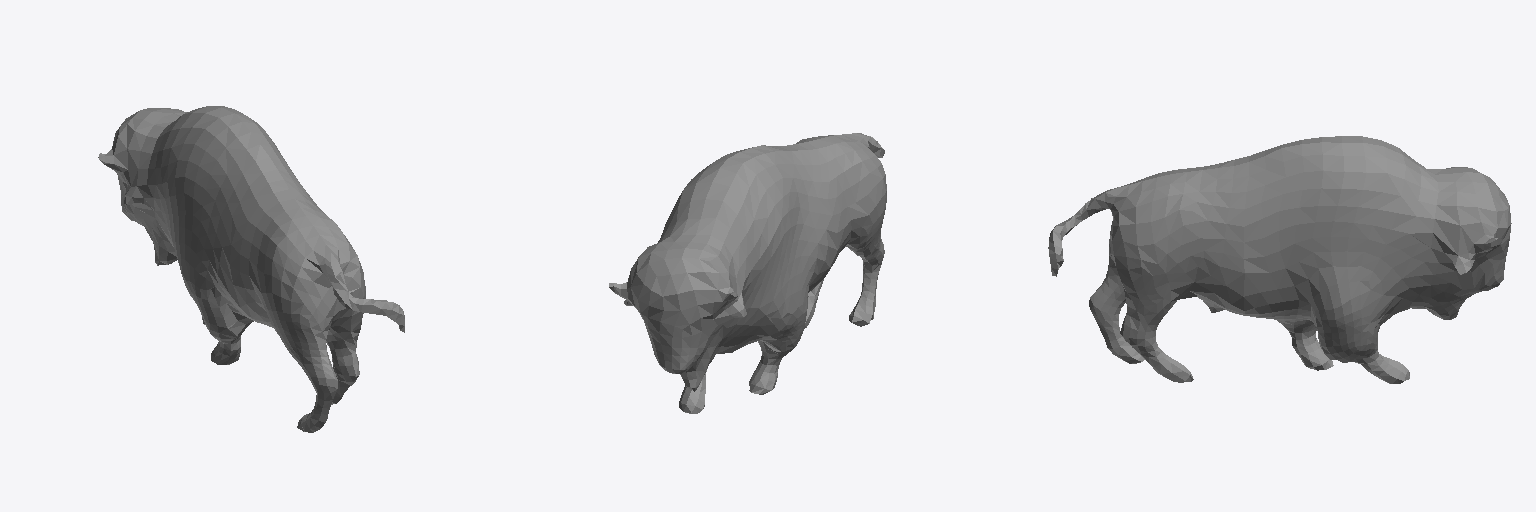
Rendered from bison.obj.
3 renders of one model, left to right at view 1: azimuth 30°, elevation 25°; view 2: azimuth 150°, elevation 25°; view 3: azimuth 270°, elevation 25°, orthographic.
Parts seen in each view (by area): view 1: objVolume11; view 2: objVolume11; view 3: objVolume11.
Part boxes in pixels (left/top/right/bottom): objVolume11: left=98, top=106, right=404, bottom=432; objVolume11: left=609, top=133, right=886, bottom=413; objVolume11: left=1048, top=136, right=1511, bottom=383.
Size of the model in its own units: 51.34 by 91.14 by 162.